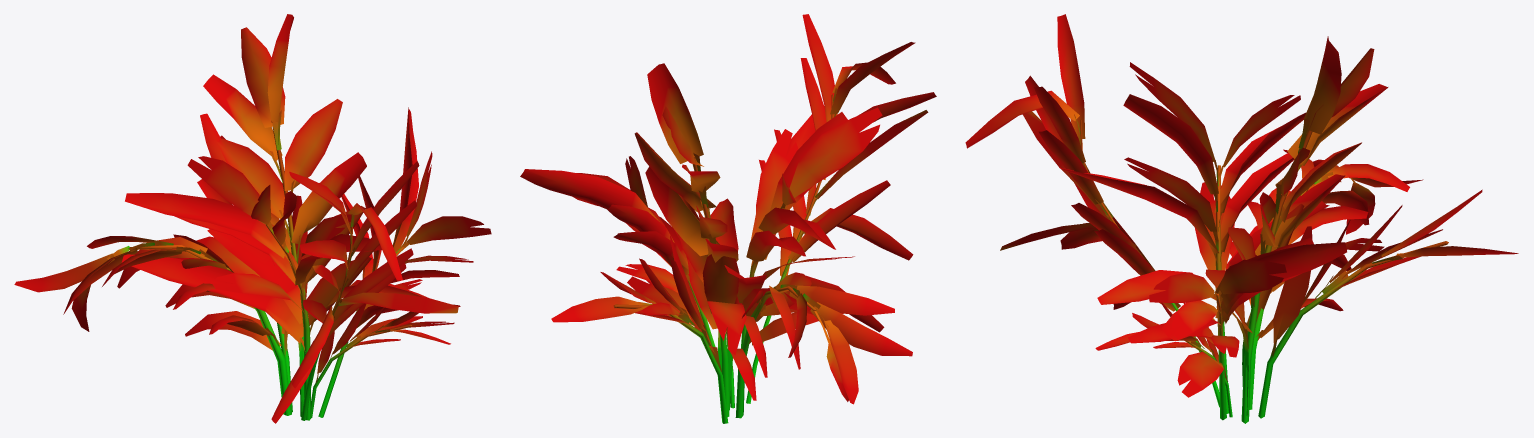
The model's file is Var2_LOD1.fbx.
The picture shows the model from 3 angles, left to right: view 1: azimuth 30°, elevation 25°; view 2: azimuth 150°, elevation 25°; view 3: azimuth 270°, elevation 25°; orthographic projection. The views are drawn at different scales.
Visible parts, largest first — view 1: _75b5_Var2_LOD1; view 2: _75b5_Var2_LOD1; view 3: _75b5_Var2_LOD1.
Part boxes in pixels (left/top/right/bottom): _75b5_Var2_LOD1: left=14, top=14, right=491, bottom=423; _75b5_Var2_LOD1: left=520, top=14, right=936, bottom=423; _75b5_Var2_LOD1: left=965, top=14, right=1518, bottom=423.
Bounding box in the file's own units: 212 × 205 × 258.
